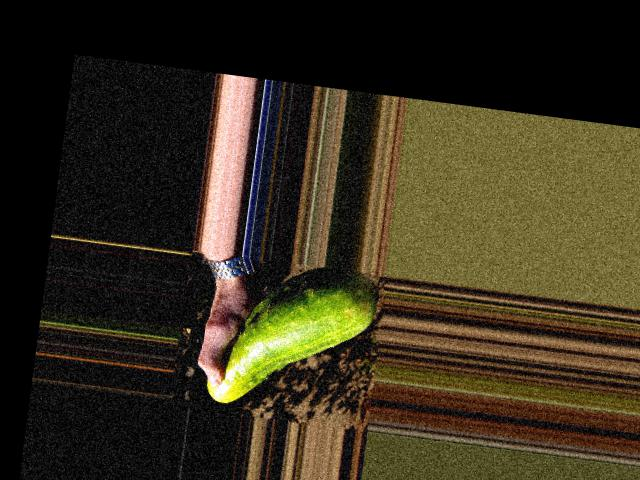cucumber: (204, 253, 382, 420)
